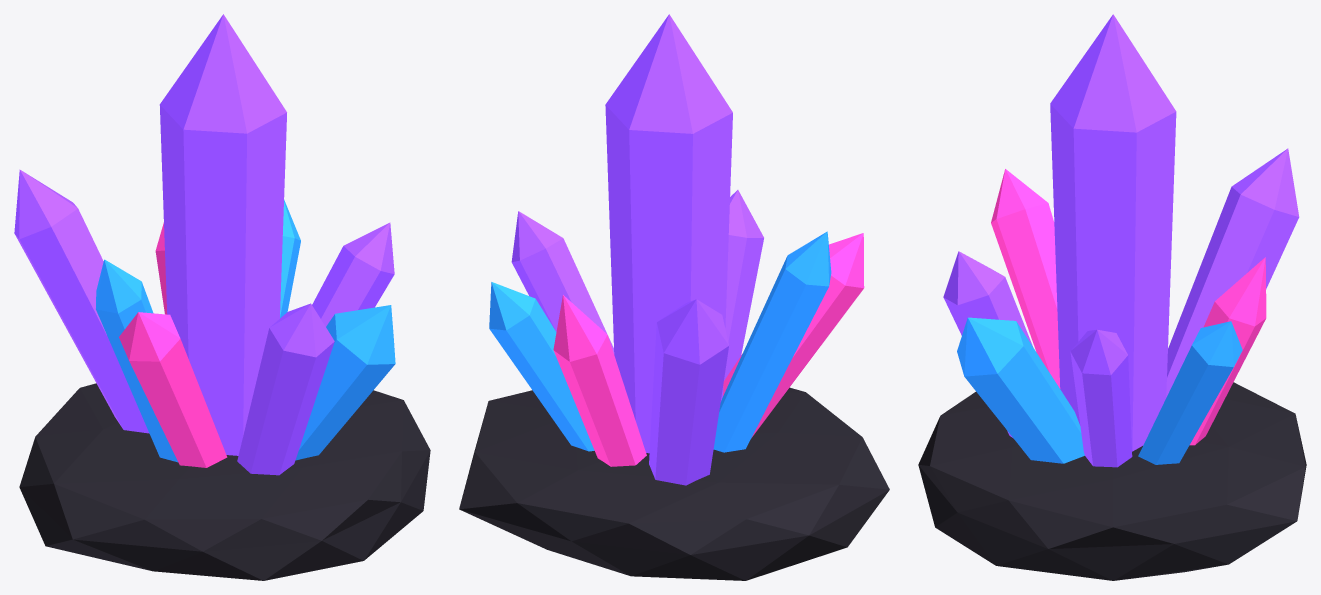
The model's file is crystal.glb.
The picture shows the model from 3 angles, left to right: view 1: azimuth 30°, elevation 25°; view 2: azimuth 150°, elevation 25°; view 3: azimuth 270°, elevation 25°; orthographic projection.
Parts seen in each view (by area): view 1: CrystalCluster; view 2: CrystalCluster; view 3: CrystalCluster.
Part boxes in pixels (bbox=[...]): CrystalCluster: bbox=[14, 14, 430, 580]; CrystalCluster: bbox=[459, 14, 889, 580]; CrystalCluster: bbox=[918, 14, 1306, 580].
Bounding box in the file's own units: 2.23 × 3.08 × 2.07.
